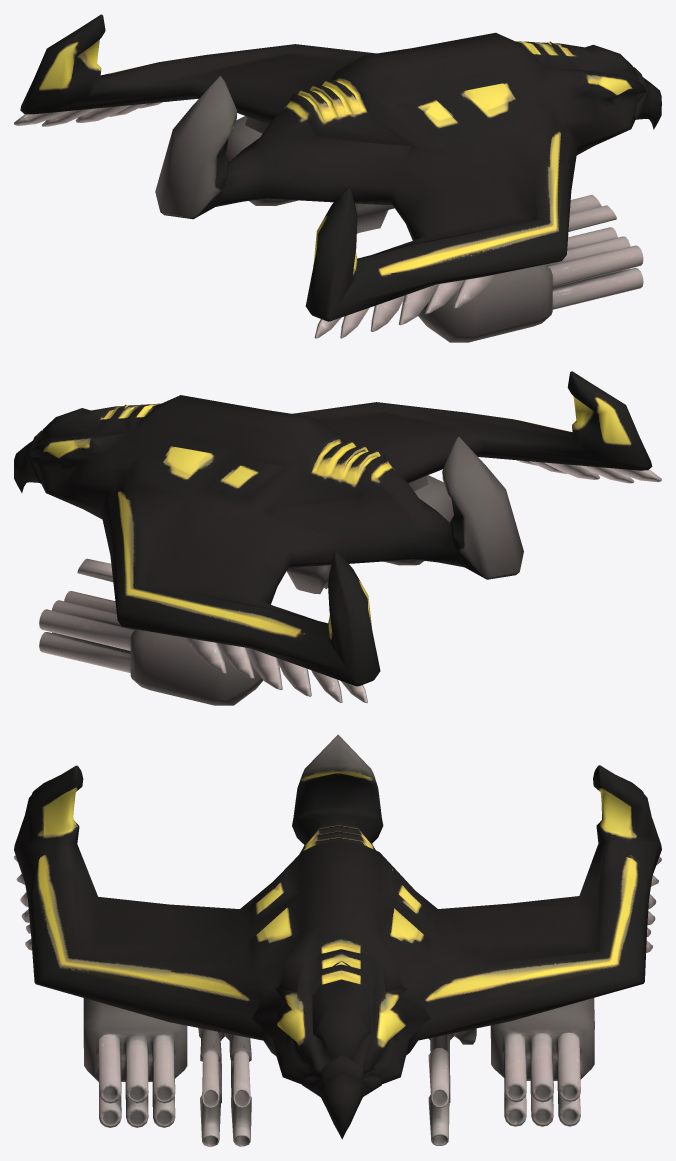
File: skai_thunderhead_v4.glb
3 views of the same model, one above another, from view 1: azimuth 30°, elevation 25°; view 2: azimuth 150°, elevation 25°; view 3: azimuth 270°, elevation 25° (orthographic). The views are drawn at different scales.
Visible parts, largest first — view 1: tripo_node_ca4ed768-6acb-4f2e-8000-8cbb01821603; view 2: tripo_node_ca4ed768-6acb-4f2e-8000-8cbb01821603; view 3: tripo_node_ca4ed768-6acb-4f2e-8000-8cbb01821603.
Part boxes in pixels (x1=…): tripo_node_ca4ed768-6acb-4f2e-8000-8cbb01821603: x1=14, y1=14, x2=661, y2=342; tripo_node_ca4ed768-6acb-4f2e-8000-8cbb01821603: x1=14, y1=371, x2=661, y2=705; tripo_node_ca4ed768-6acb-4f2e-8000-8cbb01821603: x1=14, y1=734, x2=661, y2=1146.
Bounding box in the file's own units: 0.9712 × 0.4409 × 0.9995.
1 material, 1 textured.
